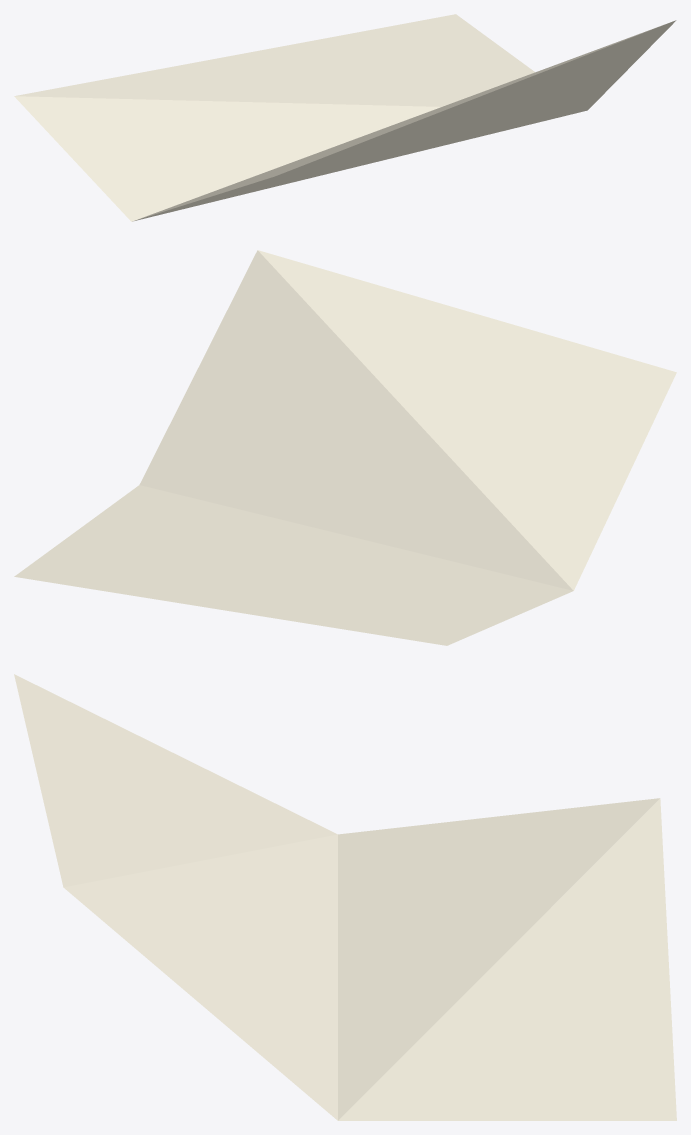
The model's file is WaterDebris.dae.
3 renders of one model, top to bottom at view 1: azimuth 30°, elevation 25°; view 2: azimuth 150°, elevation 25°; view 3: azimuth 270°, elevation 25°, orthographic. The views are drawn at different scales.
Parts seen in each view (by area): view 1: Cube; view 2: Cube; view 3: Cube.
Boxes of the visible parts, box(x1,y1,x2,y2) form: Cube: box(14, 14, 676, 221); Cube: box(14, 250, 676, 645); Cube: box(14, 674, 676, 1120).
Size of the model in its own units: 0.0182 by 0.0178 by 0.0066.
1 material, 1 textured.
